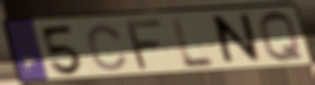5: (38, 23, 85, 78)
C: (85, 23, 130, 73)
F: (125, 18, 167, 74)
L: (170, 17, 219, 70)
N: (213, 12, 264, 69)
Q: (257, 10, 307, 65)
